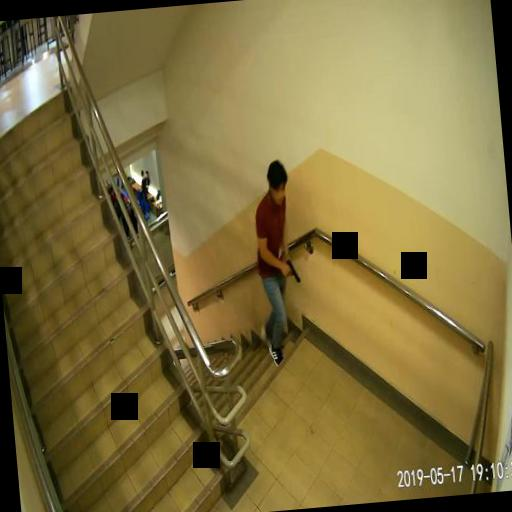Handgun: (282, 256, 300, 284)
